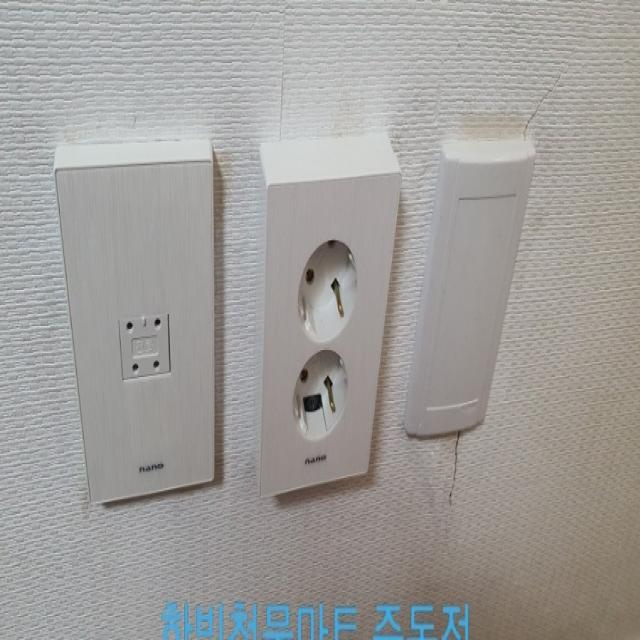typeb: (250, 114, 401, 519)
